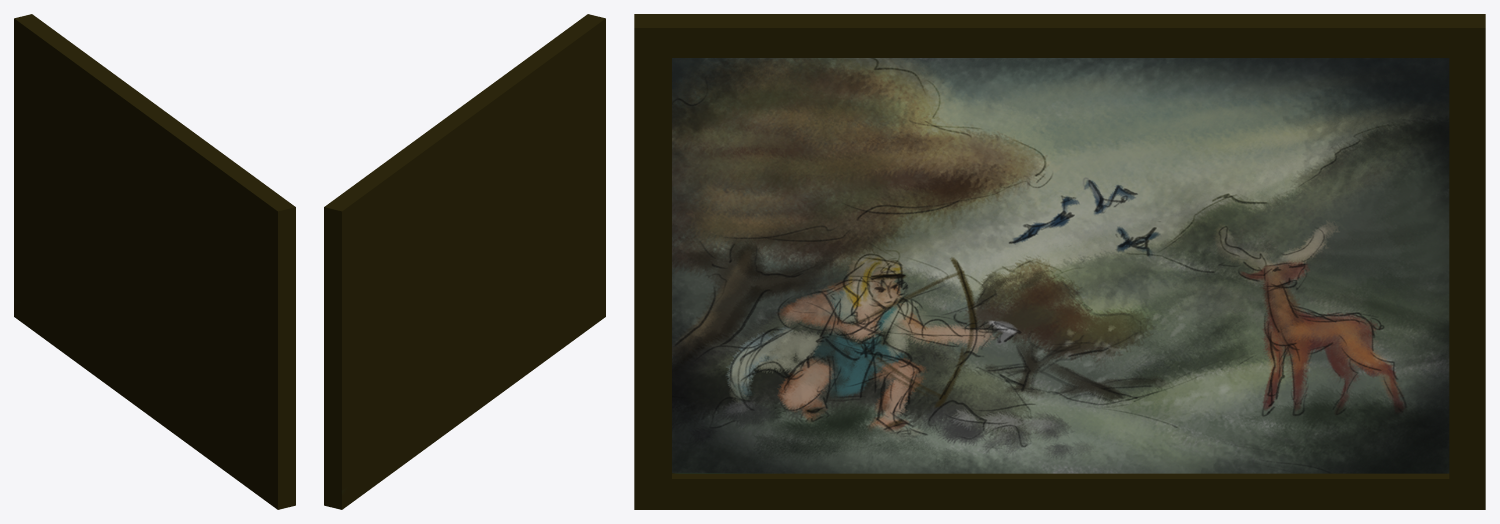
The model's file is Painting1.fbx.
3 renders of one model, left to right at view 1: azimuth 30°, elevation 25°; view 2: azimuth 150°, elevation 25°; view 3: azimuth 270°, elevation 25°, orthographic. The views are drawn at different scales.
Visible parts, largest first — view 1: Cube; view 2: Cube; view 3: Cube.
Part boxes in pixels (x1,y1,x2,y2): Cube: (14, 14, 295, 509); Cube: (324, 14, 605, 509); Cube: (634, 14, 1485, 509).
Bounding box in the file's own units: 12.97 × 206 × 330.
